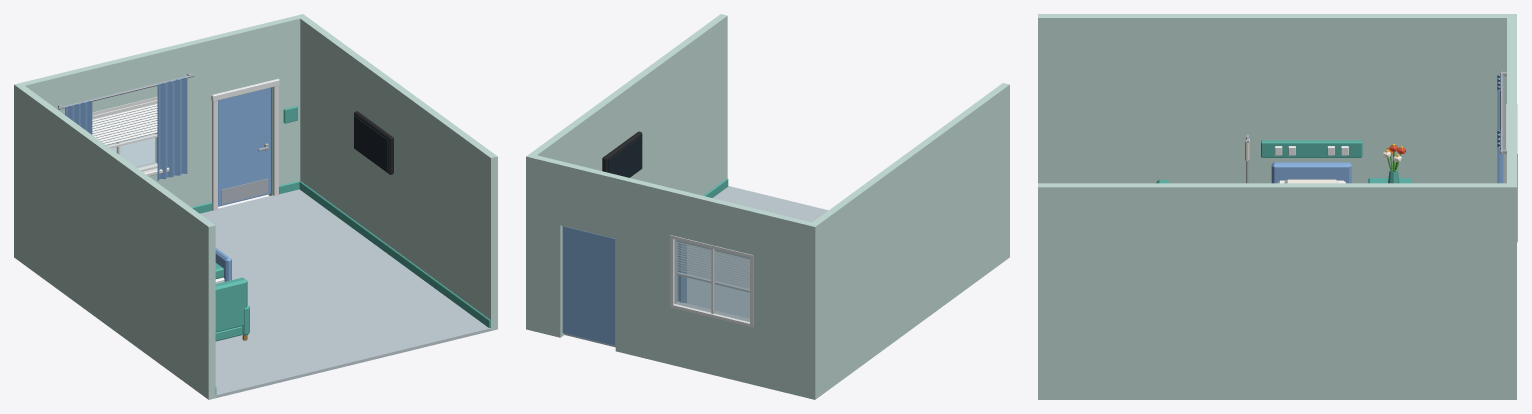
The model's file is hospital-patient-room.glb.
3 views of the same model, side by side, from view 1: azimuth 30°, elevation 25°; view 2: azimuth 150°, elevation 25°; view 3: azimuth 270°, elevation 25° (orthographic). The views are drawn at different scales.
Parts seen in each view (by area): view 1: Walls, Floor, BathroomDoor, Curtain_R, Blinds, Skirting_R, Chair_Back, TV_Screen, Win_Glass2, BathroomDoor_KickPlate, Door_Casing_L, Door_Casing_R (+3 smaller); view 2: Walls, BathroomDoor, Floor, Win_Glass2, Win_Glass, Blinds, TV_Screen, Win_Bottom, Win_Jamb_R; view 3: Walls, Headwall, Bed_Headboard.
Part boxes in pixels (<box>): Walls: <box>14,14,497,399</box>; Floor: <box>200,189,490,397</box>; BathroomDoor: <box>218,87,270,206</box>; Curtain_R: <box>157,77,187,180</box>; Blinds: <box>92,100,157,148</box>; Skirting_R: <box>299,181,490,327</box>; Chair_Back: <box>215,277,247,332</box>; TV_Screen: <box>354,115,388,171</box>; Win_Glass2: <box>120,133,157,167</box>; BathroomDoor_KickPlate: <box>221,178,268,204</box>; Door_Casing_L: <box>212,100,217,210</box>; Door_Casing_R: <box>273,85,278,195</box>; Walls: <box>526,14,1009,399</box>; BathroomDoor: <box>562,226,615,345</box>; Floor: <box>564,186,828,347</box>; Win_Glass2: <box>674,239,711,312</box>; Win_Glass: <box>714,249,749,321</box>; Blinds: <box>676,240,749,292</box>; TV_Screen: <box>608,136,642,177</box>; Win_Bottom: <box>673,302,749,326</box>; Win_Jamb_R: <box>670,235,677,307</box>; Walls: <box>1038,14,1516,399</box>; Headwall: <box>1261,140,1362,157</box>; Bed_Headboard: <box>1271,162,1351,183</box>.
Bounding box in the file's own units: 21 × 12 × 24.55.
